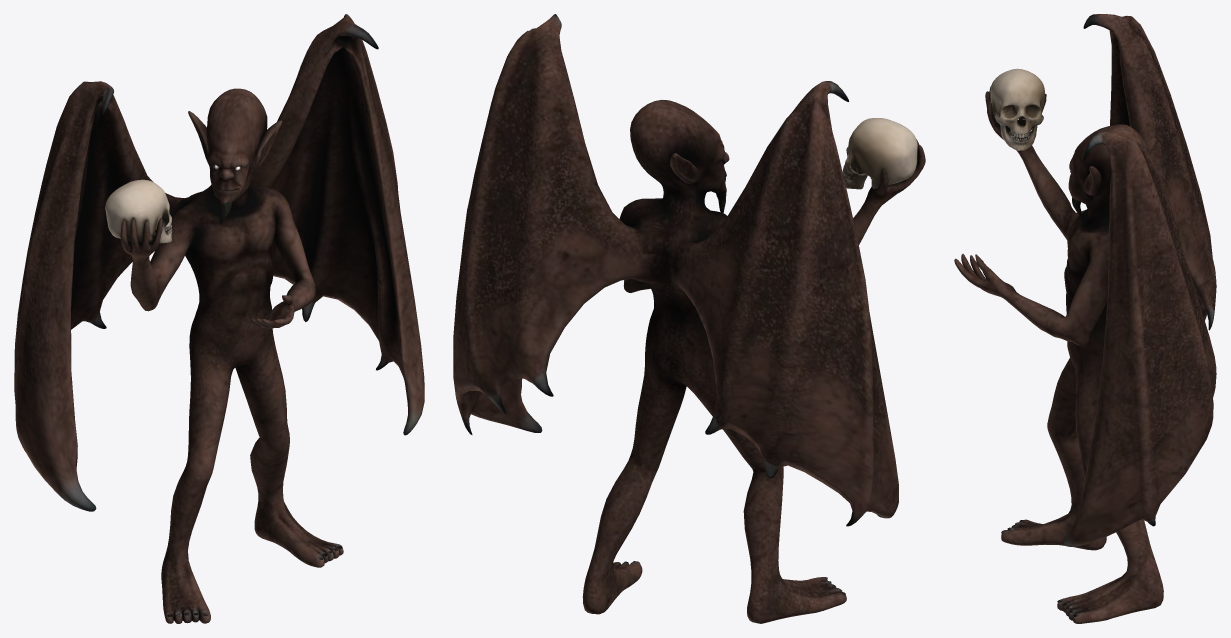
The model's file is MZ4250 - Berbalang.glb.
3 renders of one model, left to right at view 1: azimuth 30°, elevation 25°; view 2: azimuth 150°, elevation 25°; view 3: azimuth 270°, elevation 25°, orthographic. The views are drawn at different scales.
Parts seen in each view (by area): view 1: Skull.001; view 2: Skull.001; view 3: Skull.001.
Part boxes in pixels (x1,y1,x2,y2): Skull.001: (14, 14, 424, 623); Skull.001: (453, 14, 925, 623); Skull.001: (954, 14, 1216, 623).
Size of the model in its own units: 0.7889 by 1.02 by 0.4769.
Materials: 1 (1 with a texture image).
